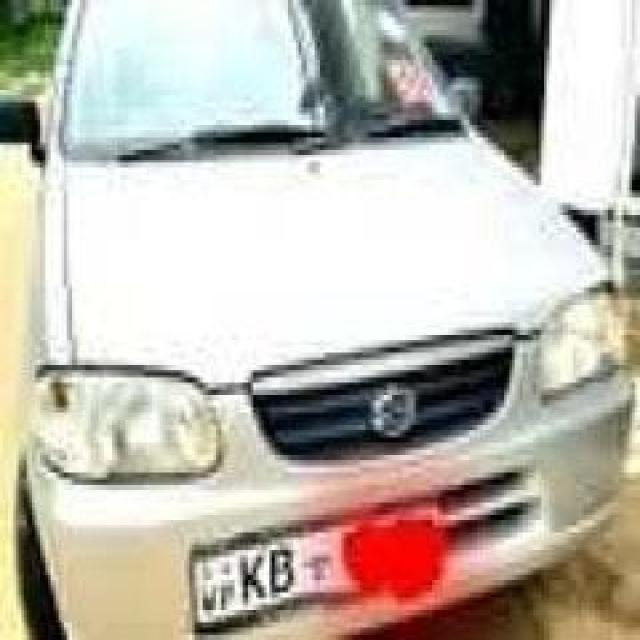car: (11, 2, 637, 640)
